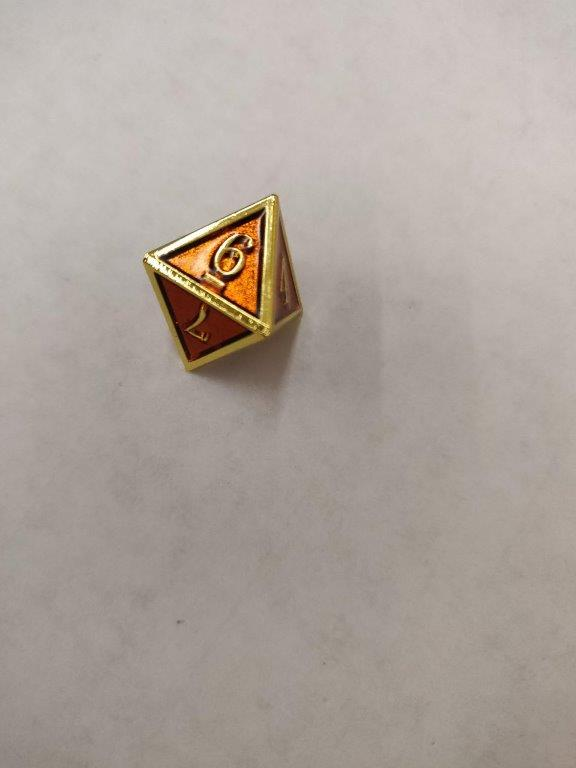d8-6: (140, 191, 304, 370)
